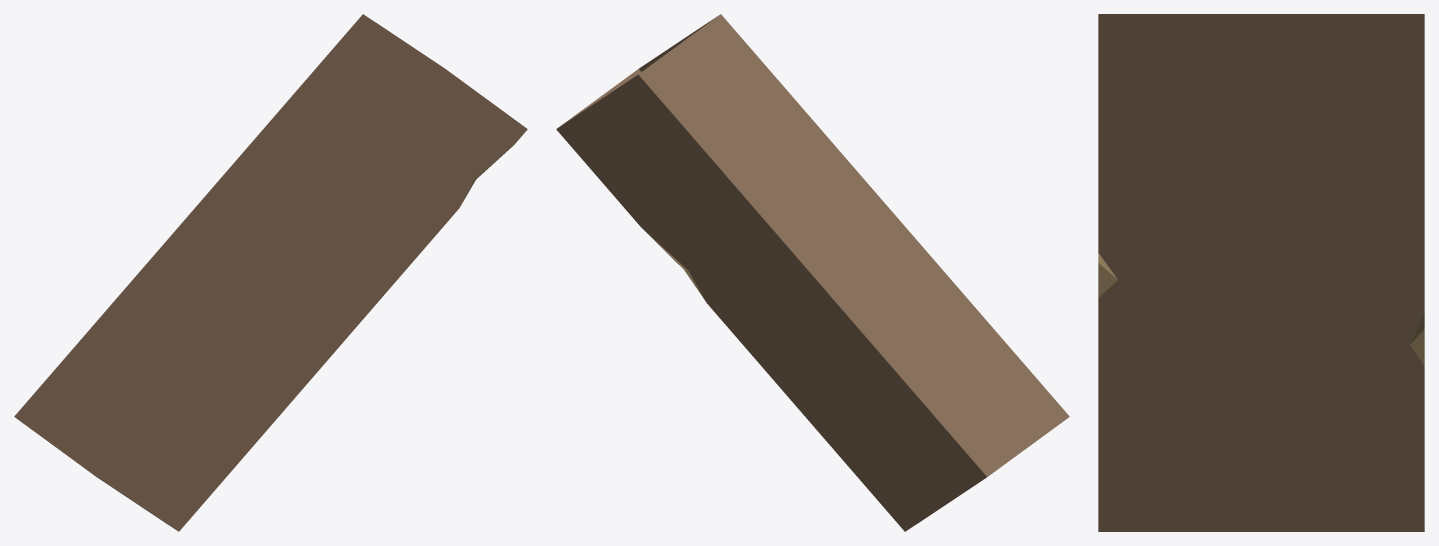
Rendered from Cave_Prop_Support_Corner_Brace_1.obj.
3 views of the same model, side by side, from view 1: azimuth 30°, elevation 25°; view 2: azimuth 150°, elevation 25°; view 3: azimuth 270°, elevation 25° (orthographic). The views are drawn at different scales.
Visible parts, largest first — view 1: object1; view 2: object1; view 3: object1.
Part boxes in pixels (bbox=[...]): object1: bbox=[14, 14, 527, 531]; object1: bbox=[556, 14, 1069, 531]; object1: bbox=[1098, 14, 1424, 531].
Bounding box in the file's own units: 0.6029 × 0.5243 × 0.2.
